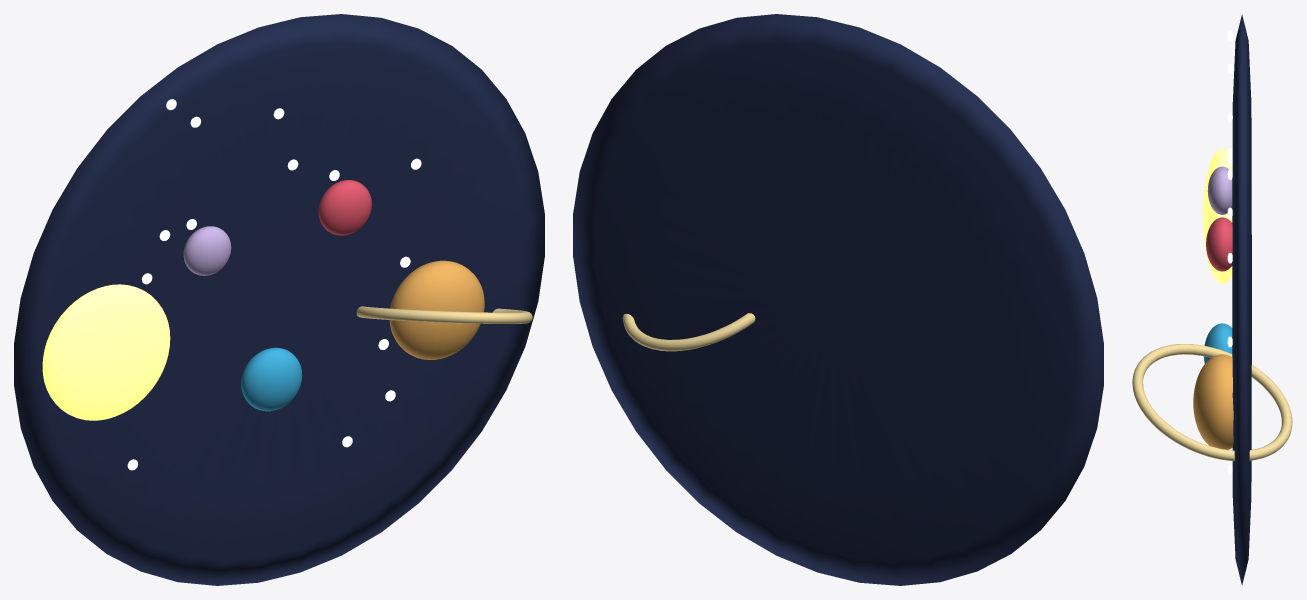
File: deco_planetas.glb
The picture shows the model from 3 angles, left to right: view 1: azimuth 30°, elevation 25°; view 2: azimuth 150°, elevation 25°; view 3: azimuth 270°, elevation 25°; orthographic projection. The views are drawn at different scales.
Visible parts, largest first — view 1: disco noche.001, sol.001, planeta 3.001, planeta 1.001, planeta 2.001, anillo saturno.001, planeta 0.001; view 2: disco noche.001, anillo saturno.001; view 3: disco noche.001, anillo saturno.001, planeta 3.001, planeta 2.001, sol.001, planeta 0.001, planeta 1.001.
Part boxes in pixels (left/top/right/bottom): disco noche.001: left=14, top=14, right=544, bottom=585; sol.001: left=42, top=284, right=170, bottom=420; planeta 3.001: left=389, top=260, right=484, bottom=359; planeta 1.001: left=241, top=347, right=302, bottom=411; planeta 2.001: left=318, top=180, right=371, bottom=235; anillo saturno.001: left=356, top=306, right=532, bottom=323; planeta 0.001: left=183, top=226, right=231, bottom=275; disco noche.001: left=573, top=14, right=1103, bottom=585; anillo saturno.001: left=622, top=313, right=755, bottom=351; disco noche.001: left=1232, top=14, right=1251, bottom=585; anillo saturno.001: left=1132, top=344, right=1292, bottom=461; planeta 3.001: left=1193, top=354, right=1233, bottom=449; planeta 2.001: left=1206, top=217, right=1232, bottom=271; sol.001: left=1203, top=149, right=1232, bottom=283; planeta 0.001: left=1207, top=166, right=1232, bottom=214; planeta 1.001: left=1203, top=323, right=1232, bottom=363.
Size of the model in its own units: 0.5778 by 0.5778 by 0.162.
